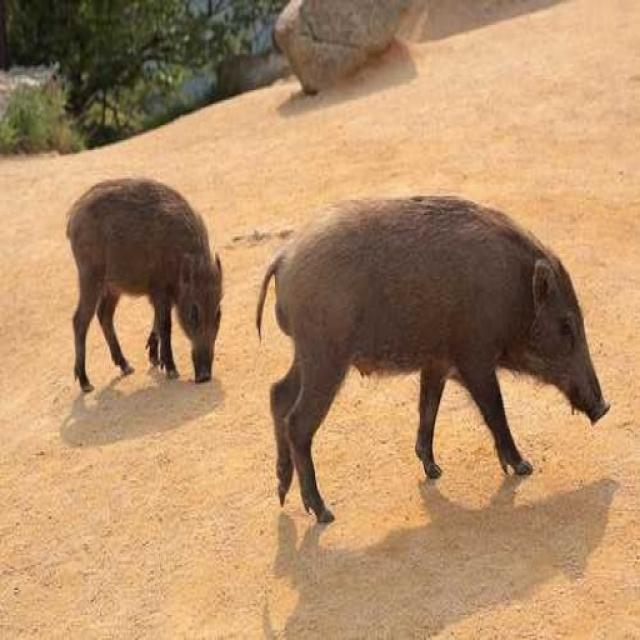pig: (227, 130, 626, 553)
